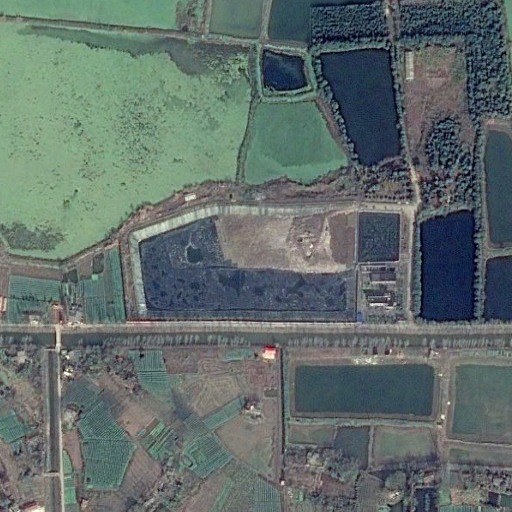lf: (130, 198, 358, 325)
